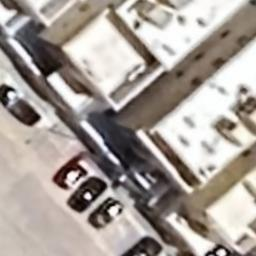pickup: (1, 83, 43, 129)
sedan: (66, 175, 108, 215), (87, 196, 125, 231), (121, 233, 163, 256)
van: (50, 154, 92, 191)
